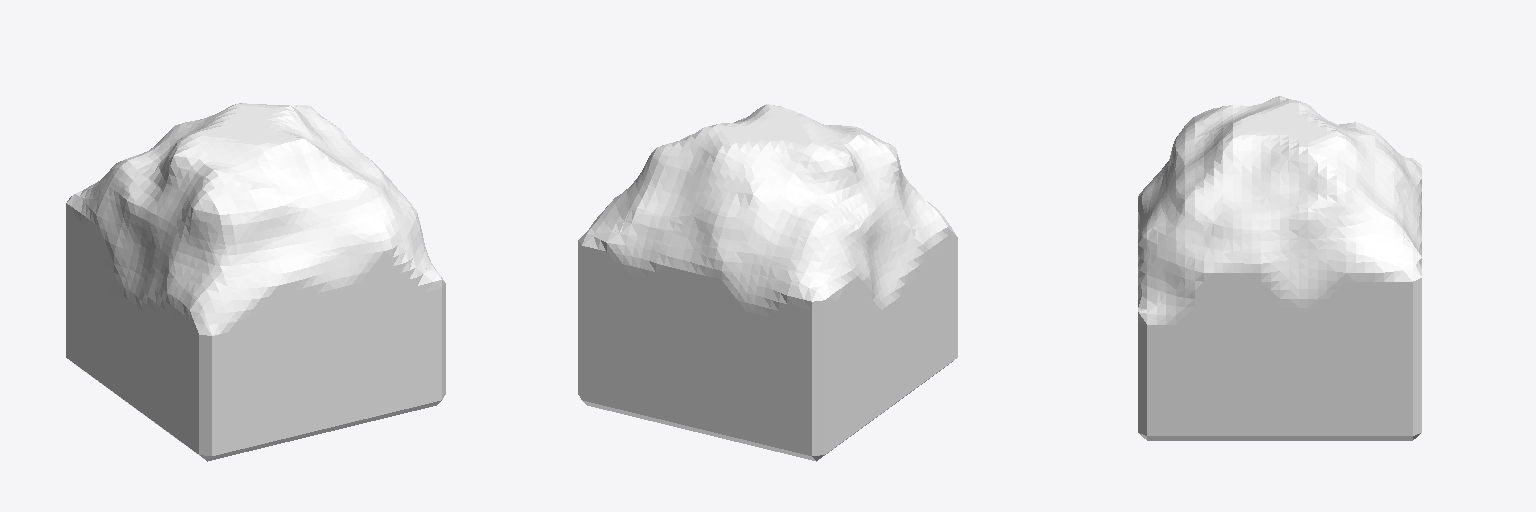
File: Mounty.obj
3 views of the same model, side by side, from view 1: azimuth 30°, elevation 25°; view 2: azimuth 150°, elevation 25°; view 3: azimuth 270°, elevation 25° (orthographic).
Parts seen in each view (by area): view 1: Volume4; view 2: Volume4; view 3: Volume4.
Part boxes in pixels (left/top/right/bottom): Volume4: left=66, top=103, right=445, bottom=461; Volume4: left=578, top=104, right=957, bottom=461; Volume4: left=1138, top=96, right=1421, bottom=440.
Size of the model in its own units: 30 by 30 by 30.